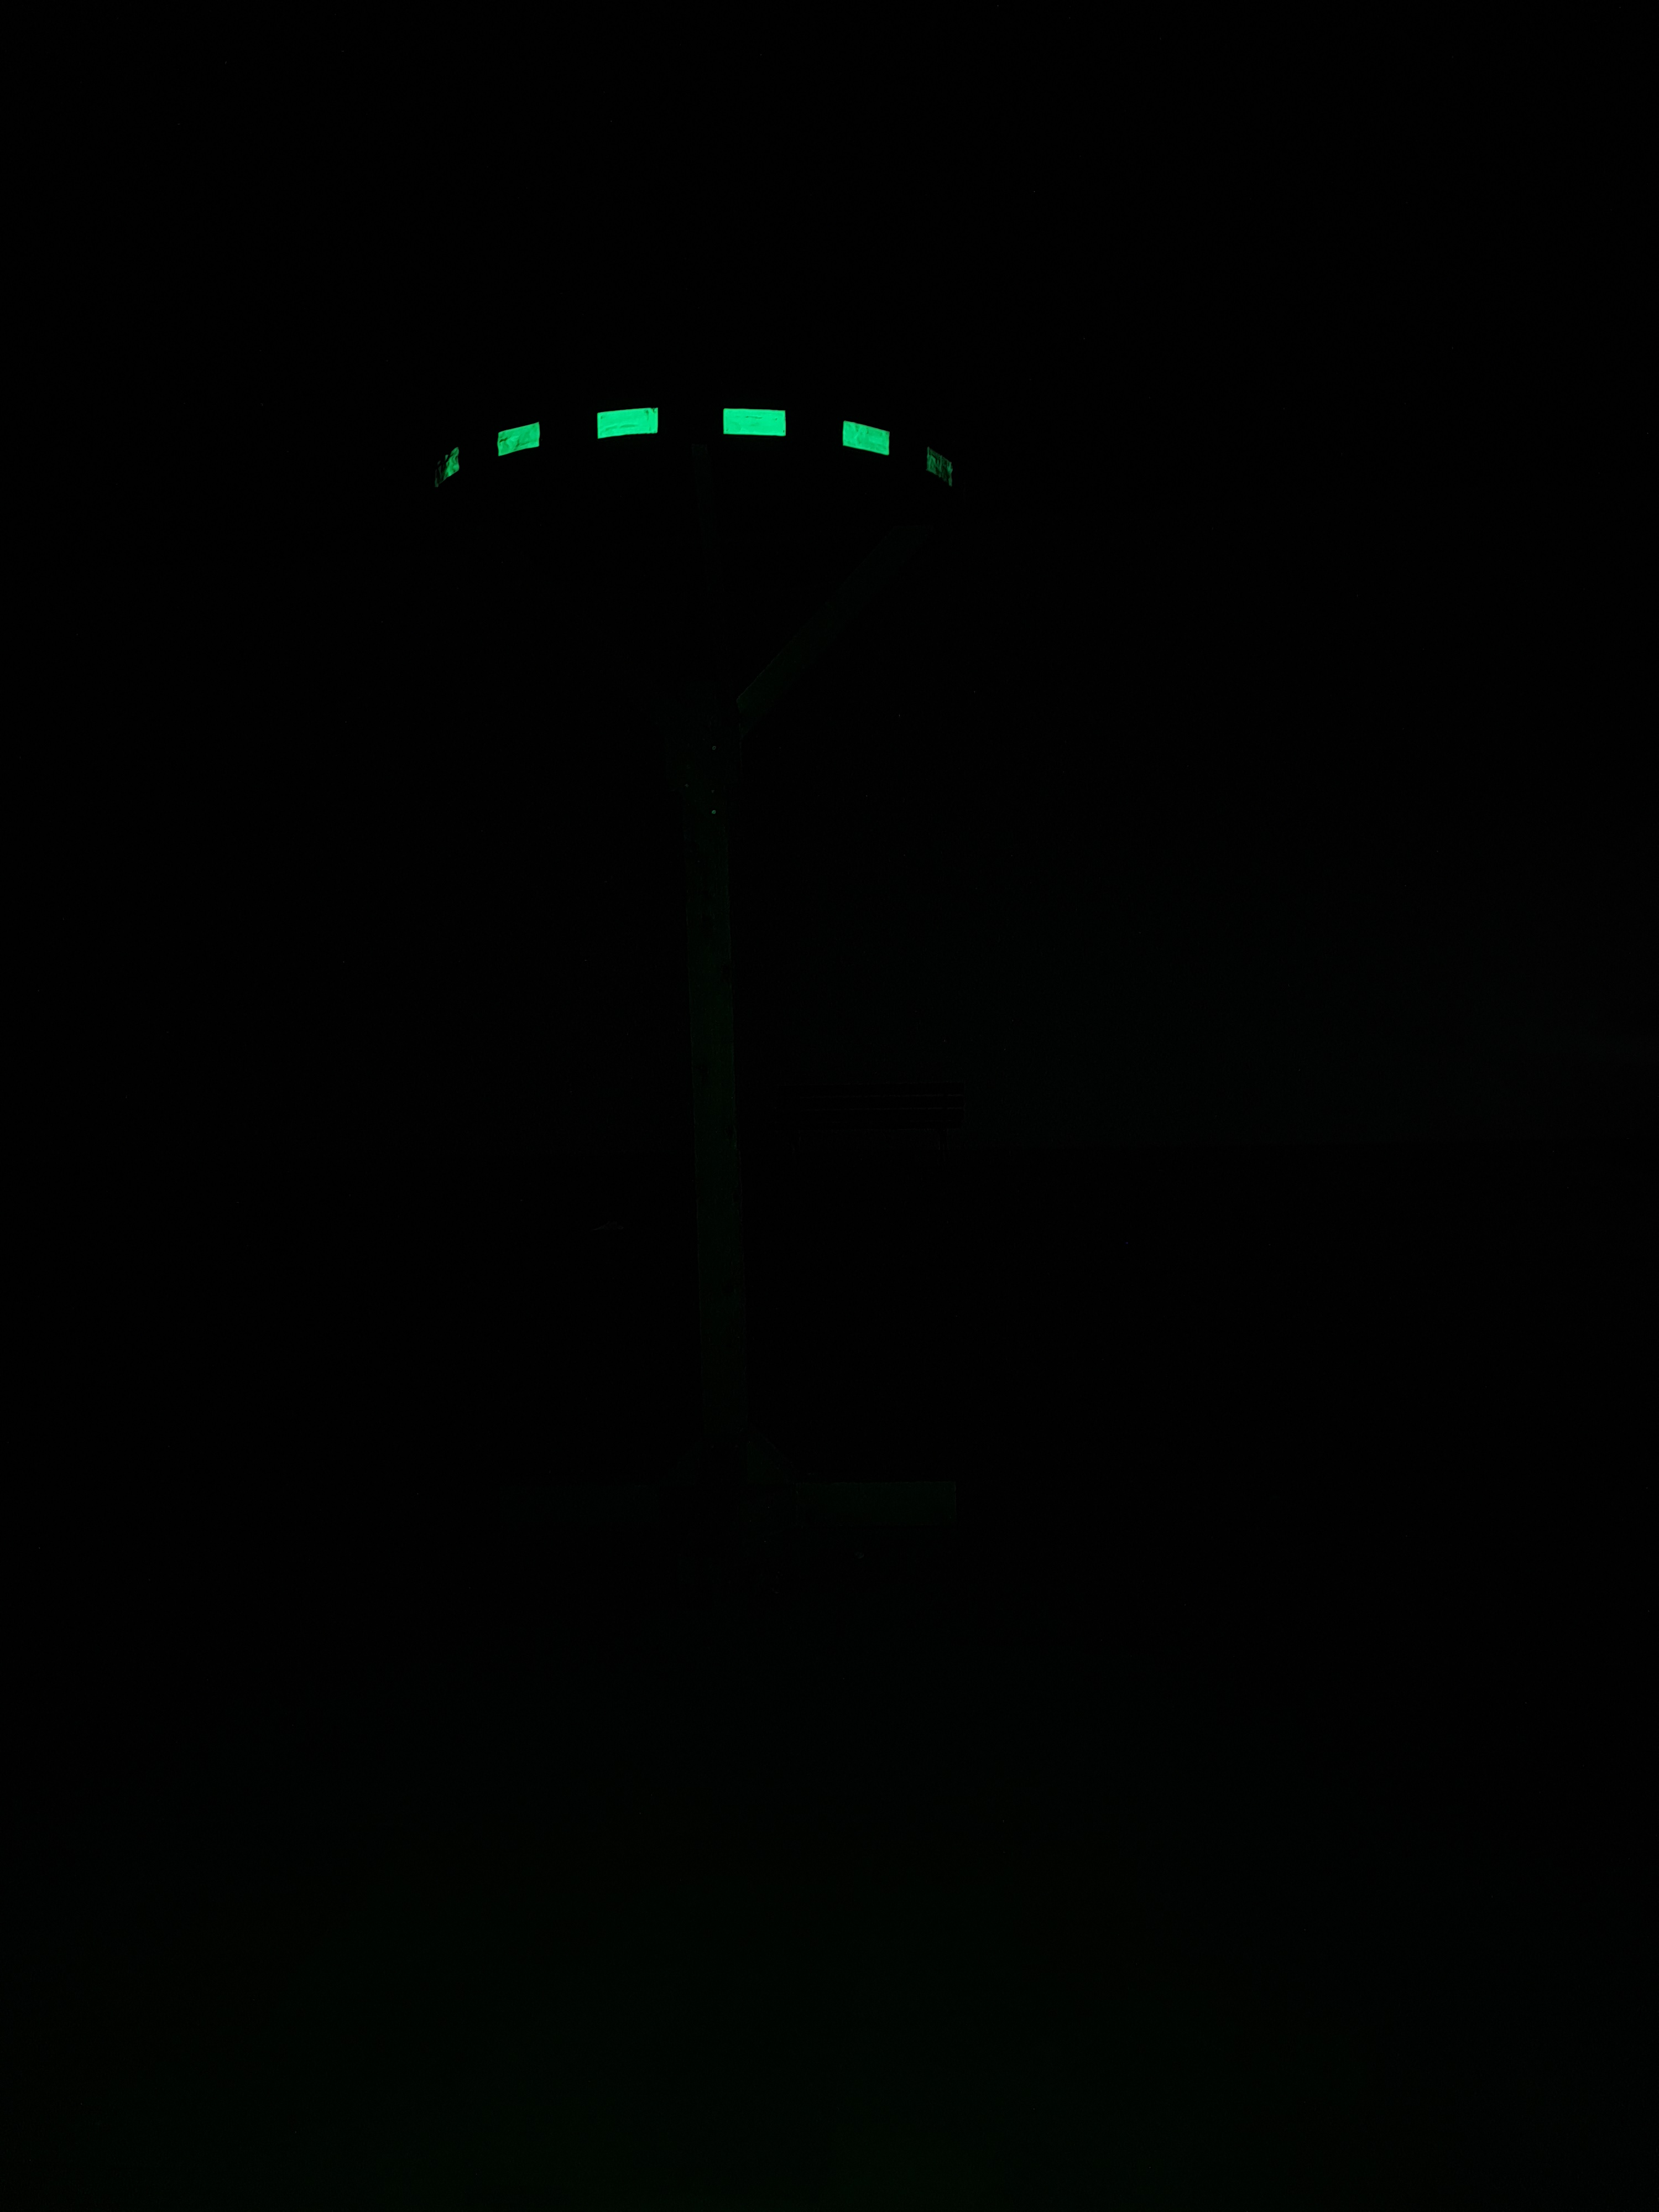hoop: (434, 394, 960, 505)
